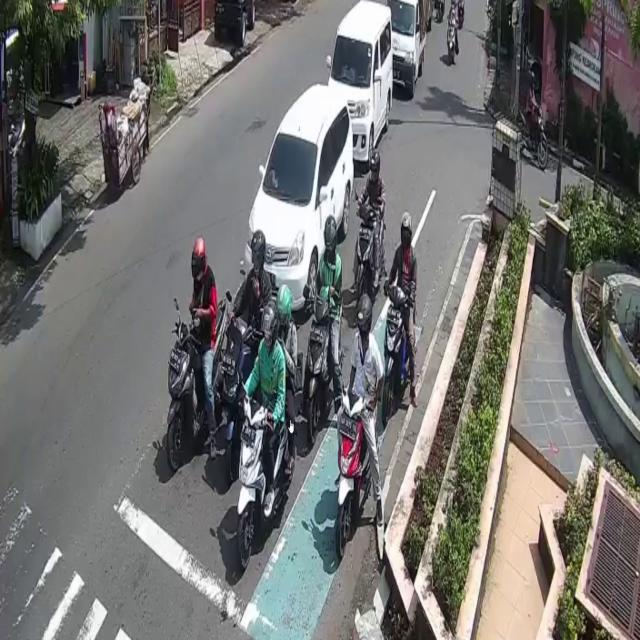bus: (163, 297, 234, 474), (237, 396, 290, 568), (337, 387, 372, 555), (305, 298, 333, 447), (383, 290, 412, 429), (358, 205, 377, 311), (517, 110, 549, 172)
motorcycle: (243, 81, 354, 319), (329, 0, 394, 162), (388, 0, 427, 94)
